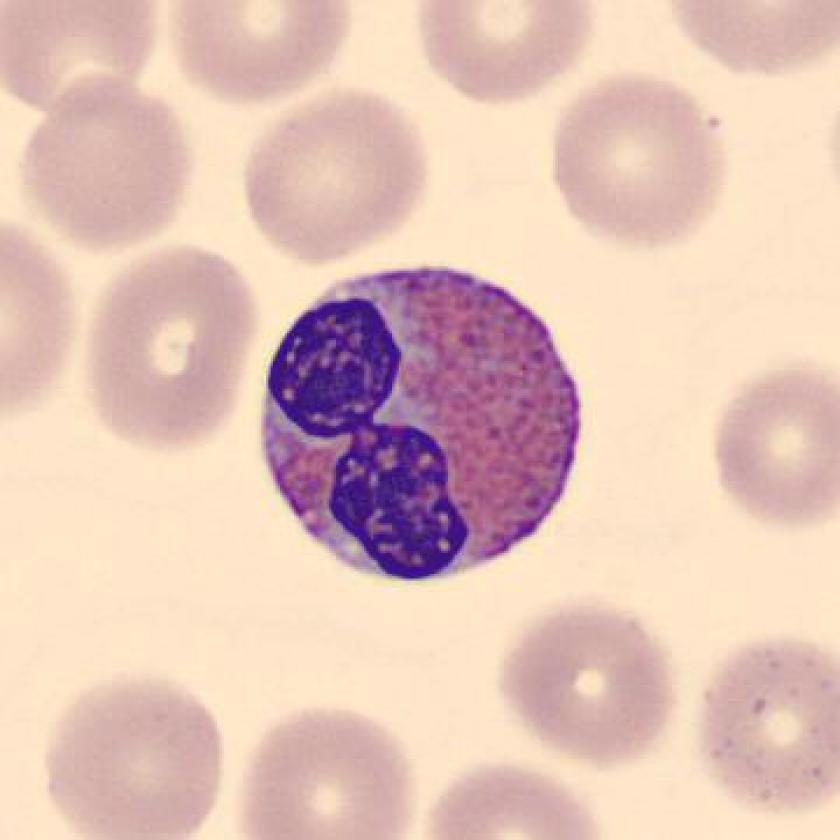eosinophil: (246, 254, 596, 594)
